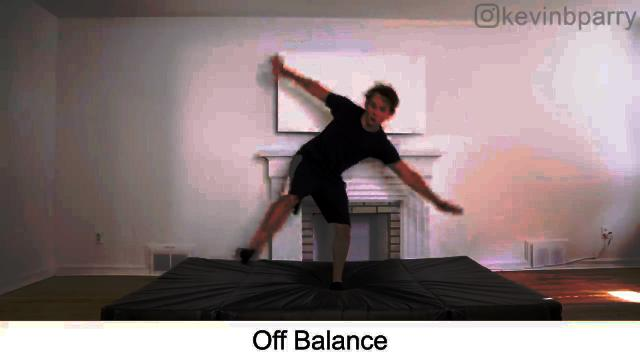jatuh: (235, 53, 461, 297)
